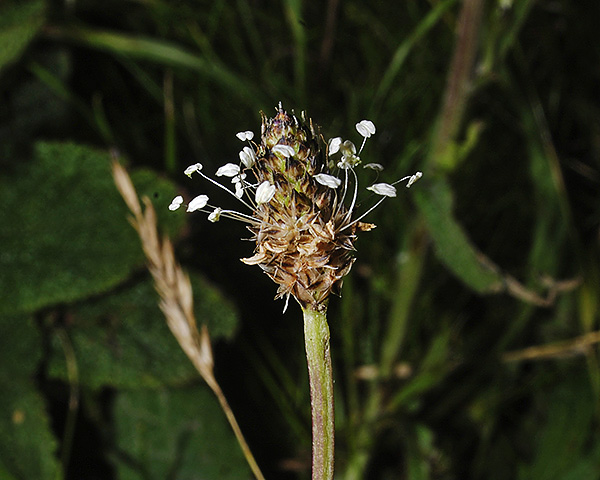buckhorn plantain: (196, 95, 383, 468)
